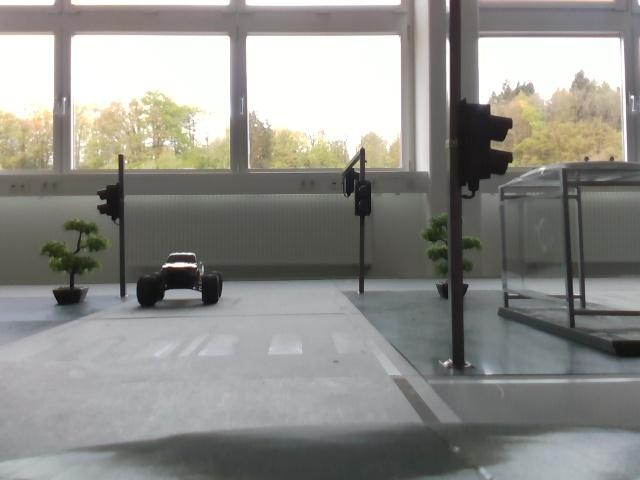car: (133, 236, 226, 319)
potted plant: (42, 215, 109, 311), (421, 217, 489, 308)
traffic light: (446, 104, 518, 180), (344, 171, 376, 224), (97, 180, 129, 225)
